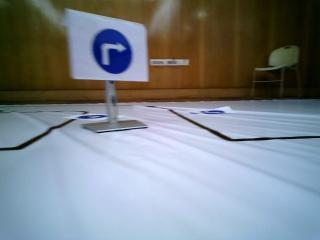right: (76, 17, 151, 81)
